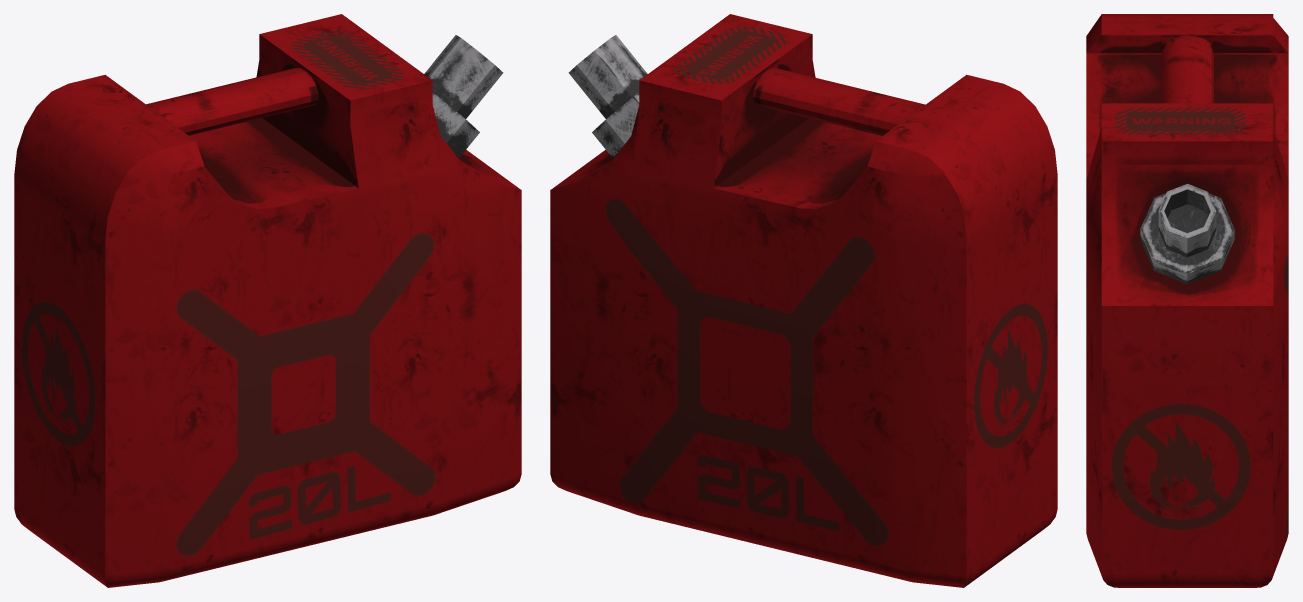
File: fuelCanWithTex.fbx
3 renders of one model, left to right at view 1: azimuth 30°, elevation 25°; view 2: azimuth 150°, elevation 25°; view 3: azimuth 270°, elevation 25°, orthographic. The views are drawn at different scales.
Parts seen in each view (by area): view 1: Cube.023; view 2: Cube.023; view 3: Cube.023.
Part boxes in pixels (left/top/right/bottom): Cube.023: left=14, top=14, right=521, bottom=587; Cube.023: left=550, top=14, right=1057, bottom=587; Cube.023: left=1086, top=14, right=1288, bottom=587.
Size of the model in its own units: 82.08 by 78.62 by 34.83.
2 materials, 2 textured.
